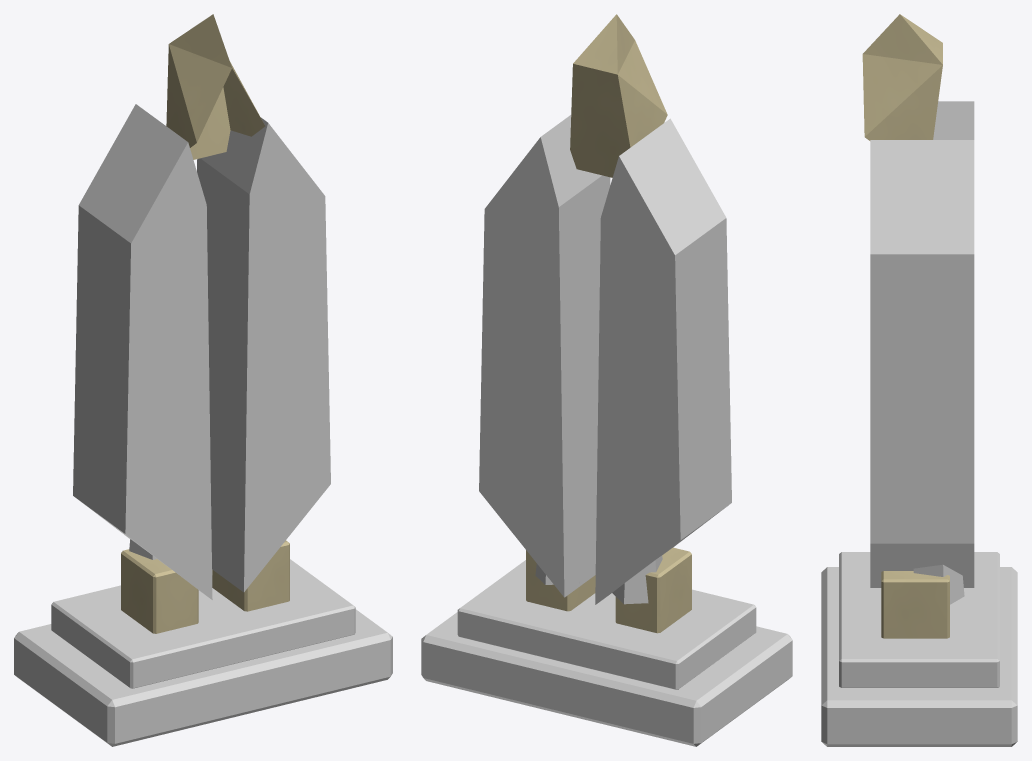
File: WarrensC_WVC025_SplitMourner_Mars_SM.fbx
3 renders of one model, left to right at view 1: azimuth 30°, elevation 25°; view 2: azimuth 150°, elevation 25°; view 3: azimuth 270°, elevation 25°, orthographic.
Parts seen in each view (by area): view 1: WarrensC_WVC025_SplitMourner_Mars_SM.001; view 2: WarrensC_WVC025_SplitMourner_Mars_SM.001; view 3: WarrensC_WVC025_SplitMourner_Mars_SM.001.
Part boxes in pixels (x1,y1,x2,y2): WarrensC_WVC025_SplitMourner_Mars_SM.001: [14, 14, 392, 746]; WarrensC_WVC025_SplitMourner_Mars_SM.001: [421, 14, 792, 746]; WarrensC_WVC025_SplitMourner_Mars_SM.001: [821, 14, 1017, 746].
Bounding box in the file's own units: 200 × 120 × 450.
